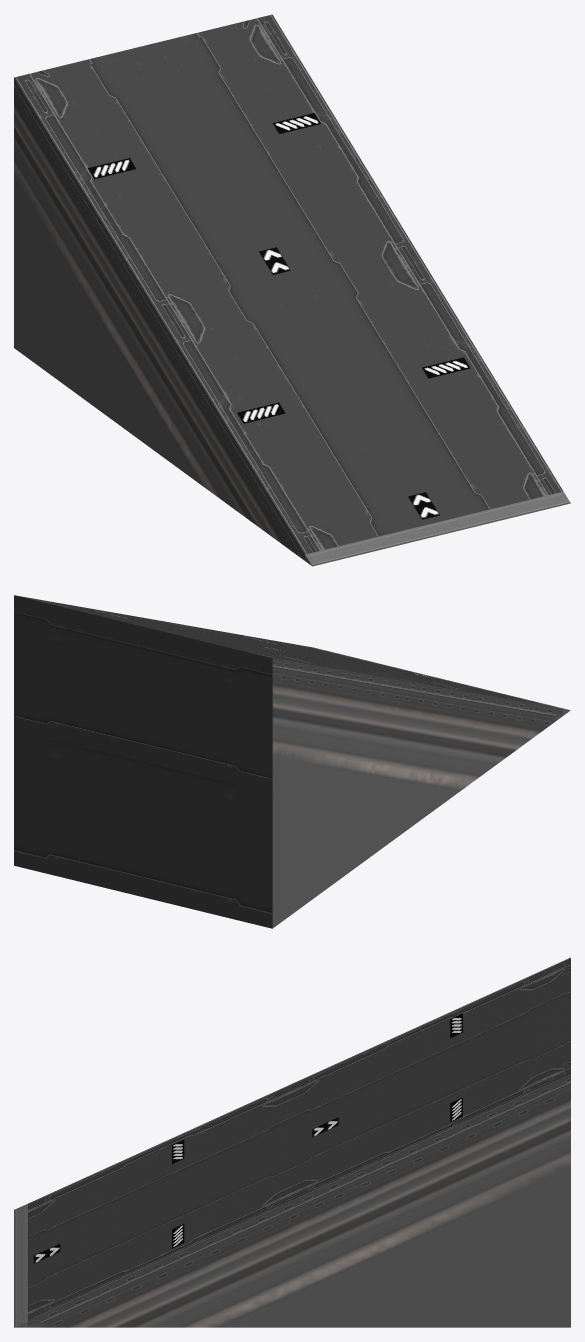
File: Platform_Ramp_4.gltf
3 renders of one model, top to bottom at view 1: azimuth 30°, elevation 25°; view 2: azimuth 150°, elevation 25°; view 3: azimuth 270°, elevation 25°, orthographic. The views are drawn at different scales.
Visible parts, largest first — view 1: Platform_Ramp_4; view 2: Platform_Ramp_4; view 3: Platform_Ramp_4.
Part boxes in pixels (x1,y1,x2,y2): Platform_Ramp_4: (14, 14, 570, 566); Platform_Ramp_4: (14, 595, 570, 928); Platform_Ramp_4: (14, 957, 570, 1327).
Size of the model in its own units: 2 by 2 by 4.
3 materials, 3 textured.
